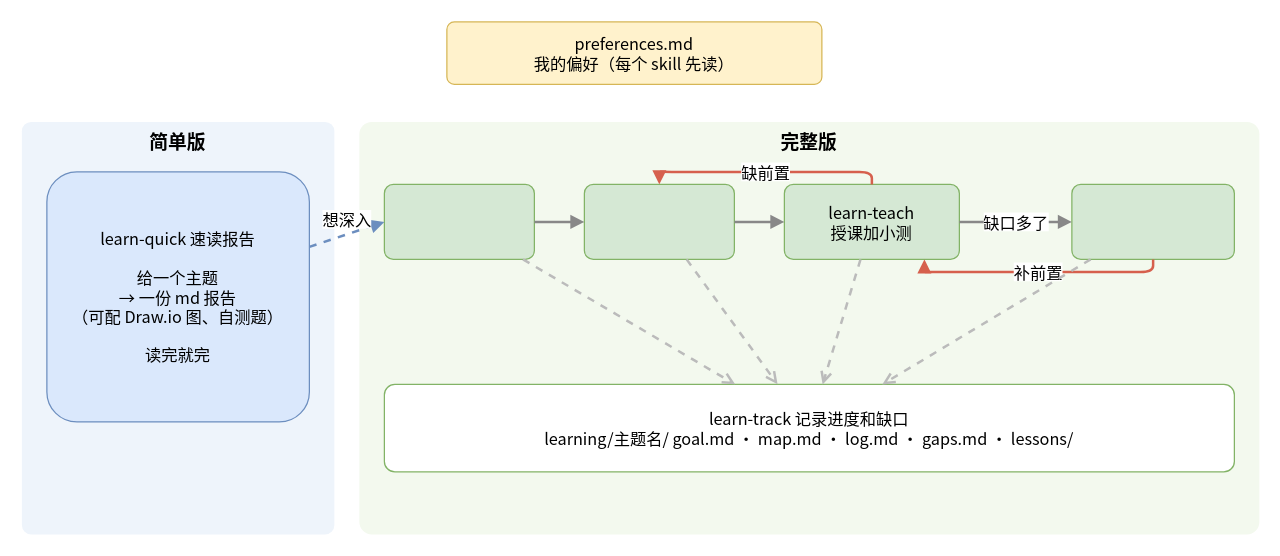
Some shapes in this 1280 by 556 pixel diagram are drawn without their labels. Each missing label, with the centre of its shape:
learn-diagnose 诊断误解: (1152,221)
learn-map 画地图: (658,221)
learn-probe 摸底: (458,221)
